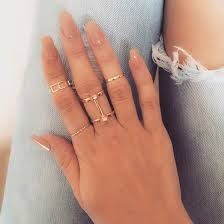hand: (15, 8, 196, 216)
